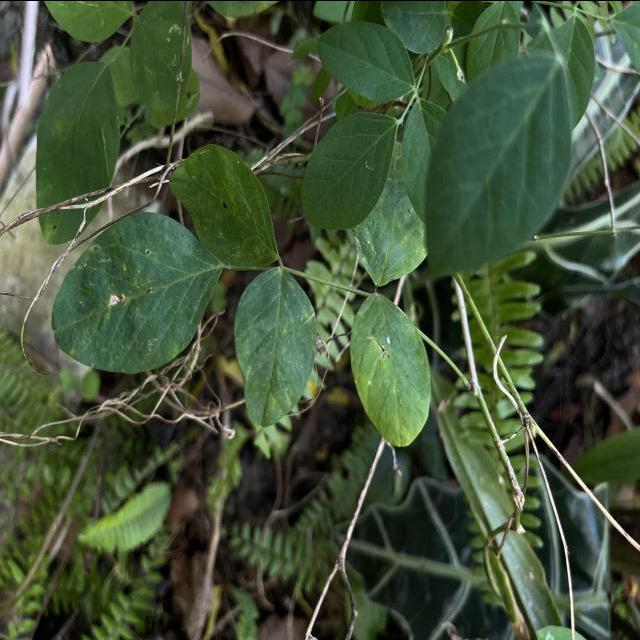Clitoria ternatea: (50, 208, 224, 374), (233, 264, 318, 428), (349, 290, 432, 448), (300, 110, 398, 230)
